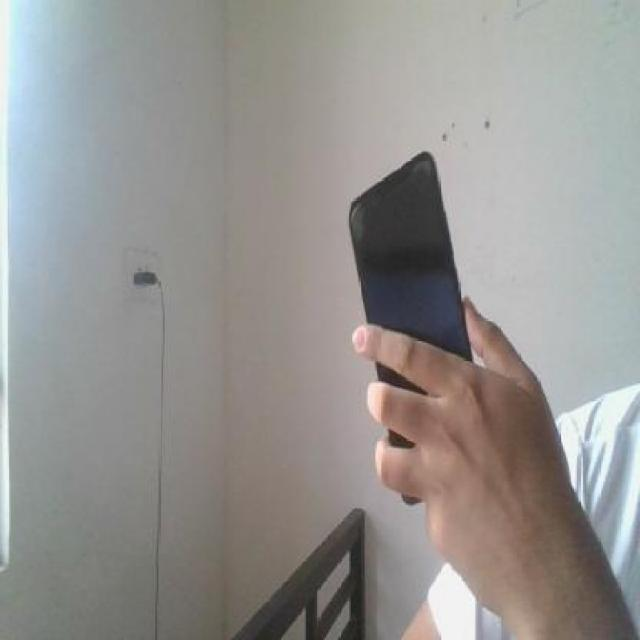Phone: (344, 148, 472, 390)
